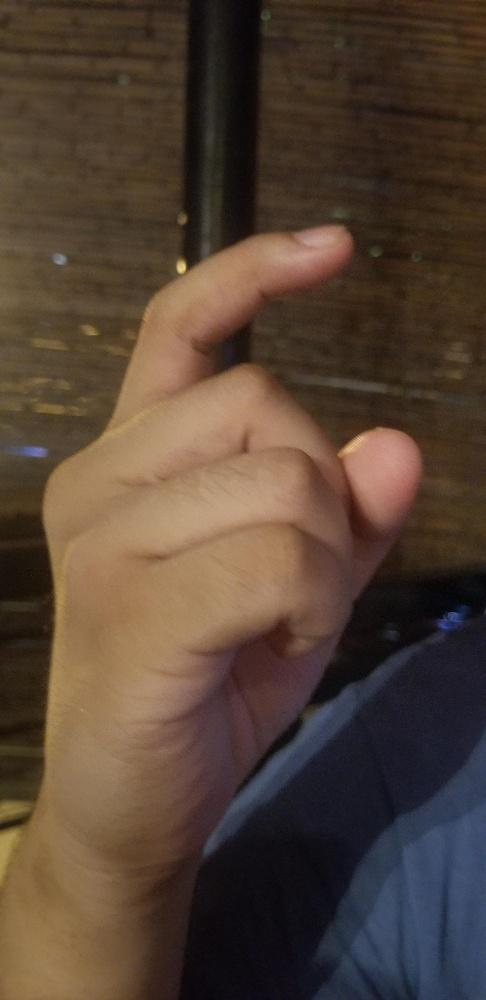x: (37, 219, 424, 834)
